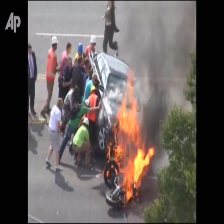fire_h: (107, 68, 155, 202)
fire_l: (107, 164, 118, 177)
